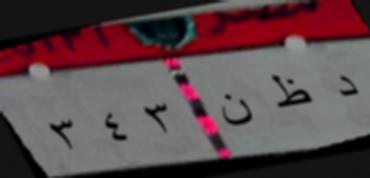3: (47, 112, 76, 152), (142, 99, 172, 136)
4: (100, 106, 128, 148)
Thaa: (266, 69, 316, 119)
daal: (332, 67, 359, 107)
noon: (216, 86, 254, 132)
